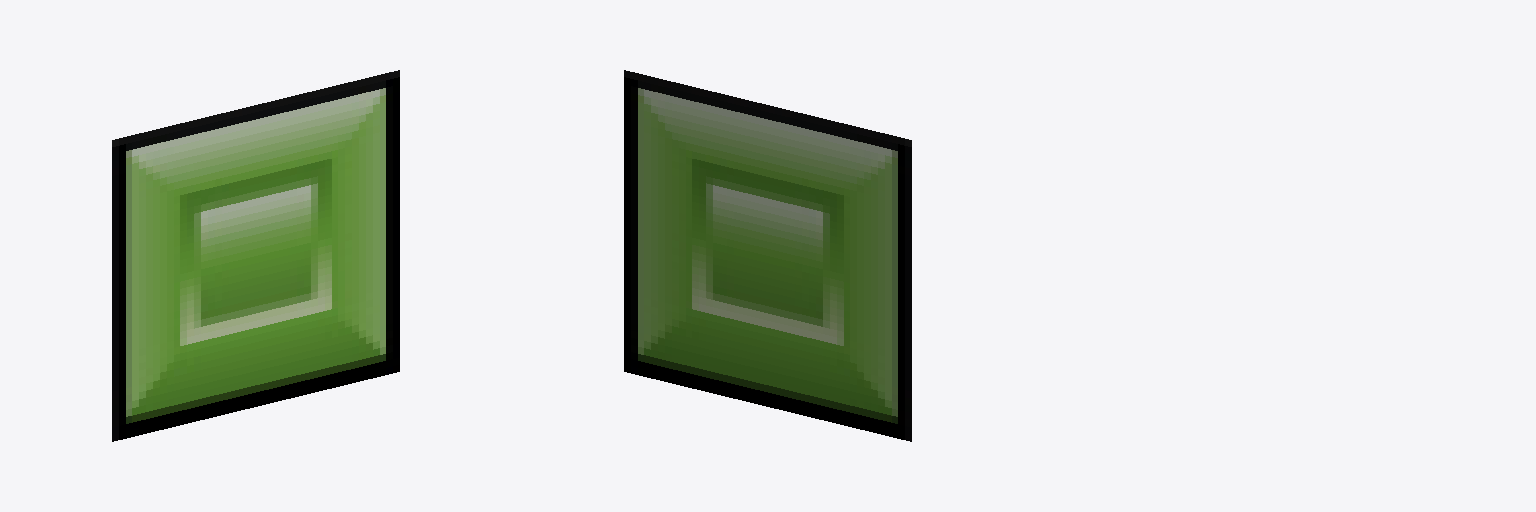
The picture shows the model from 3 angles: view 1: azimuth 30°, elevation 25°; view 2: azimuth 150°, elevation 25°; view 3: azimuth 270°, elevation 25°; orthographic projection.
Visible parts, largest first — view 1: Green; view 2: Green; view 3: none.
Boxes of the visible parts, x1,y1,x2,y2 form: Green: [112, 70, 399, 441]; Green: [624, 70, 911, 441].
Size of the model in its own units: 1 by 1 by 0.
Materials: 1 (1 with a texture image).